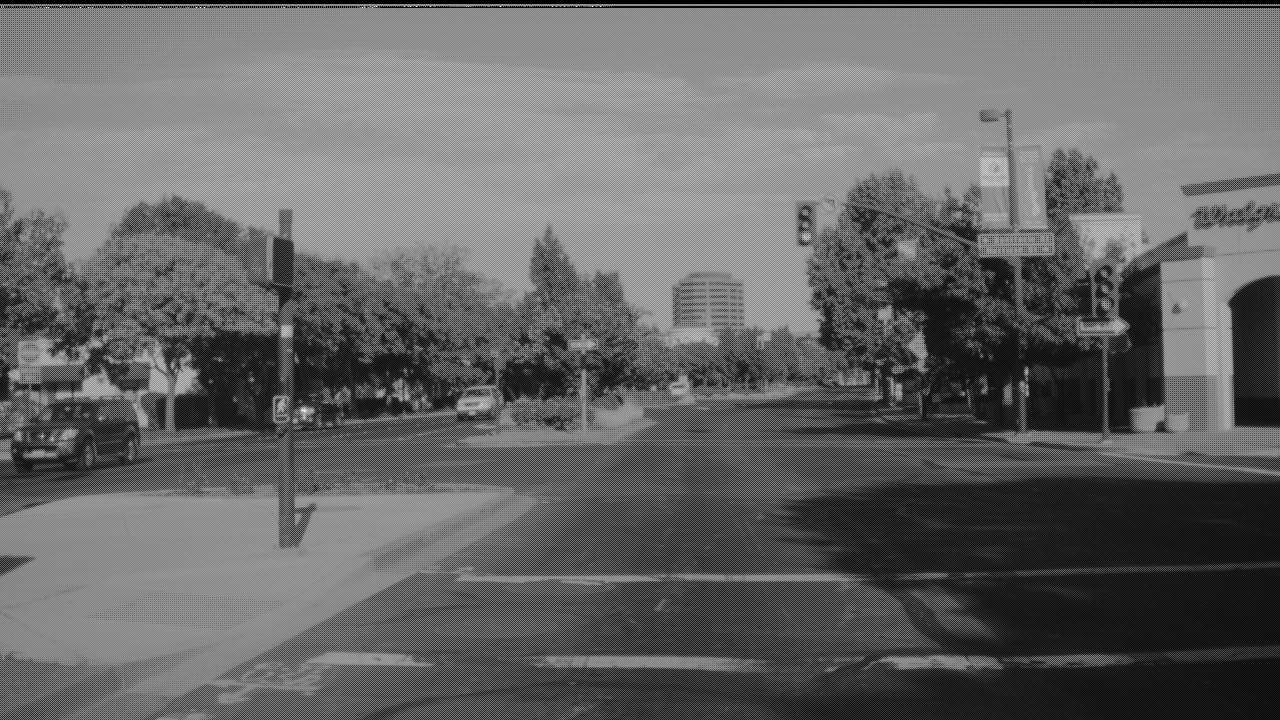pole: (1004, 110, 1027, 425), (277, 199, 292, 542)
